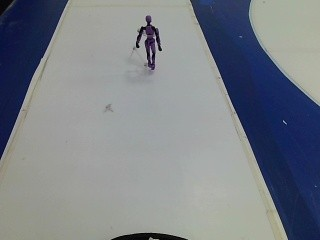pedestrian: (134, 13, 163, 74)
